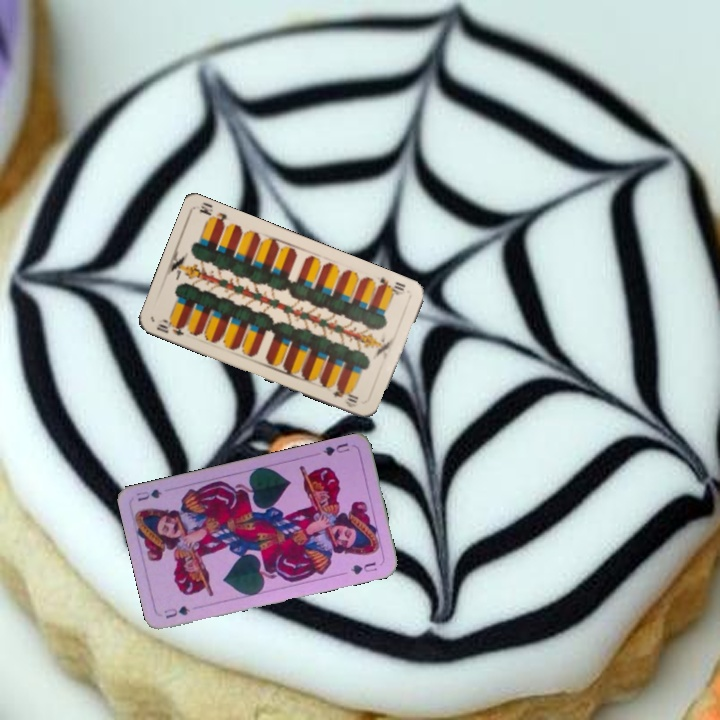E10: (374, 273, 408, 298), (153, 315, 187, 338)
GU: (319, 439, 352, 459), (160, 602, 193, 621)
